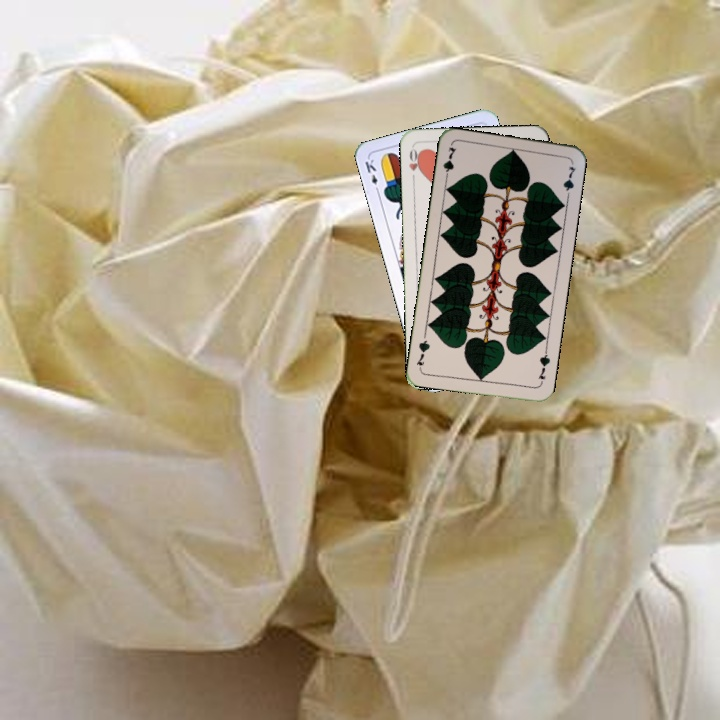EK: (361, 155, 382, 196)
G7: (439, 143, 459, 183), (534, 347, 553, 387)
HO: (405, 144, 424, 184)
